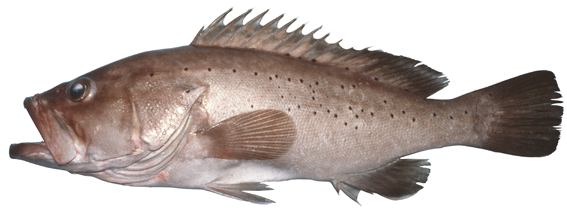fish: (9, 7, 564, 206)
